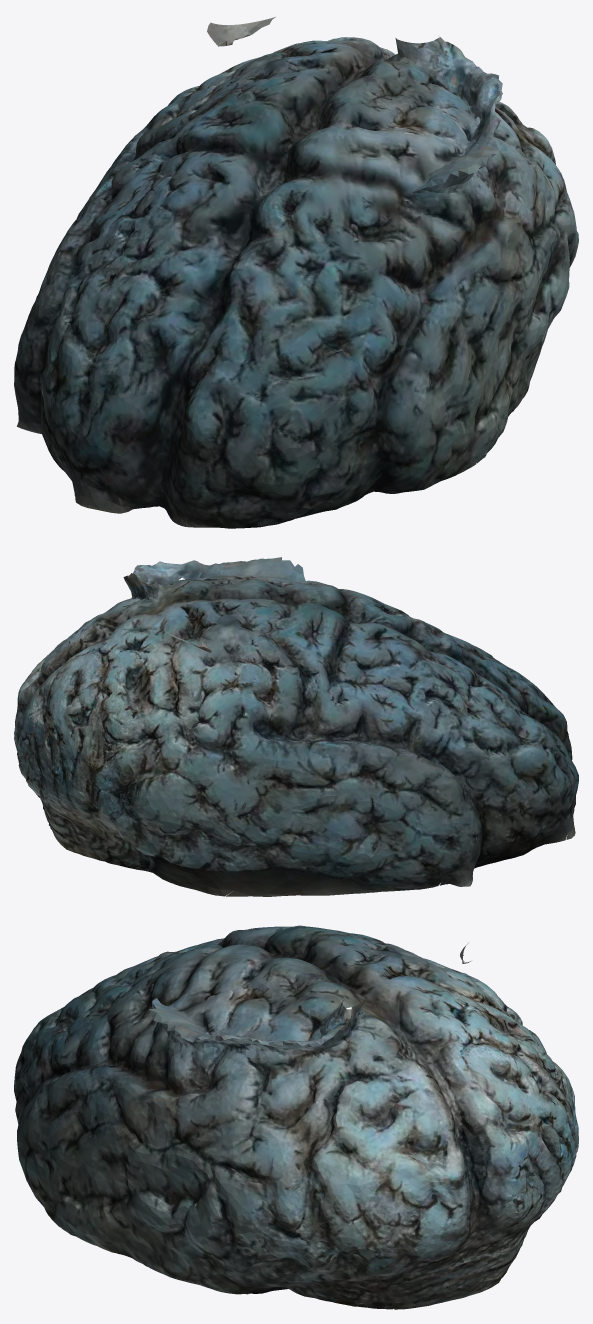
Rendered from brain-mobile.glb.
3 views of the same model, one above another, from view 1: azimuth 30°, elevation 25°; view 2: azimuth 150°, elevation 25°; view 3: azimuth 270°, elevation 25° (orthographic). The views are drawn at different scales.
Bounding box in the file's own units: 0.2219 × 0.1069 × 0.2012.
1 material, 1 textured.
